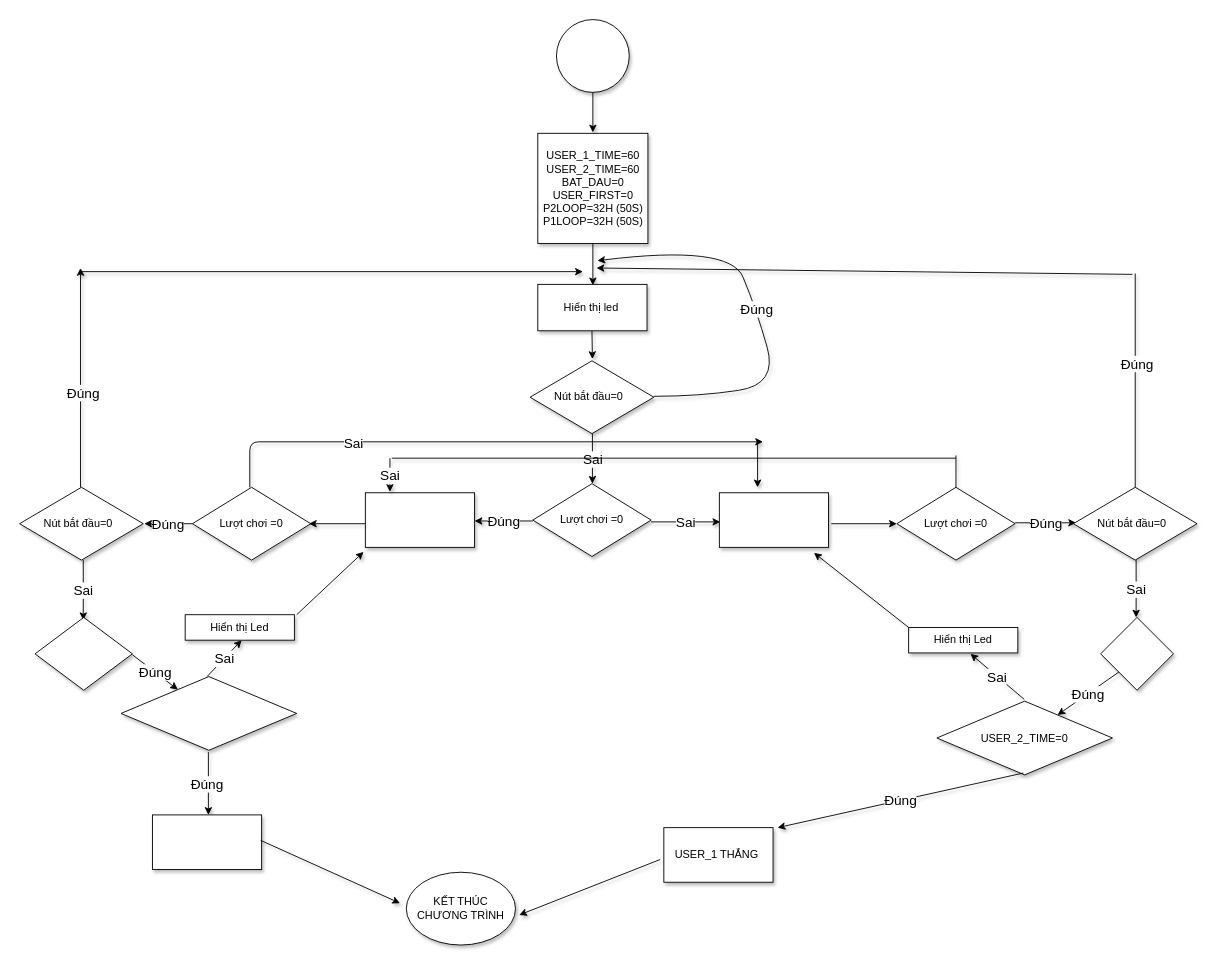
Image size: 1218x967. Some labels were removed from this diagram. Here are the shapes that lost their labels. From the top down, the centre of each, then its label:
the point at 593,57: Bắt đầu
the point at 420,521: P1LOOP--
the point at 774,521: P2LOOP--
the point at 84,655: P1LOOP=0
the point at 1137,655: P2LOOP=0
the point at 209,714: USER_1_TIME=0
the point at 207,843: USER_2 THẮNG
